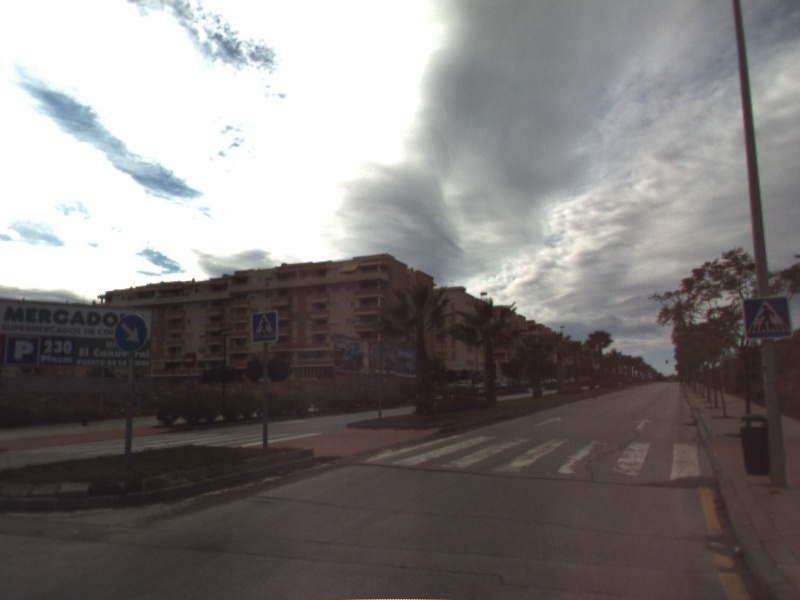STRAIGHT: (533, 414, 564, 428), (632, 416, 655, 432)
